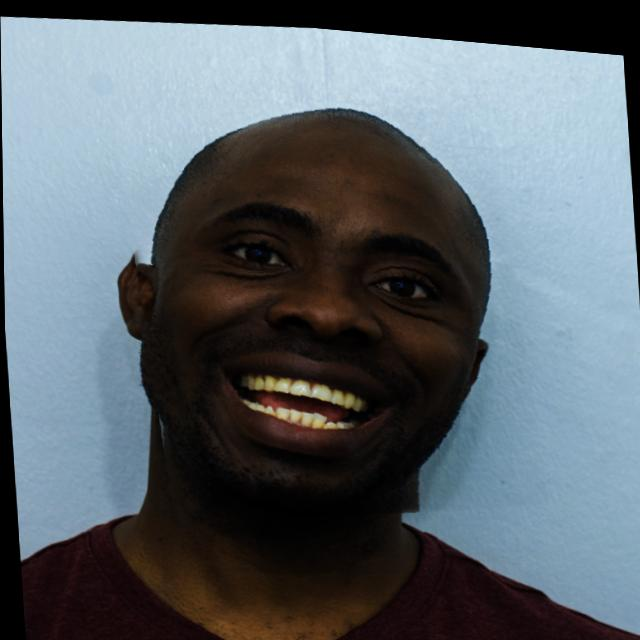happy: (118, 65, 541, 541), (83, 75, 99, 84)
